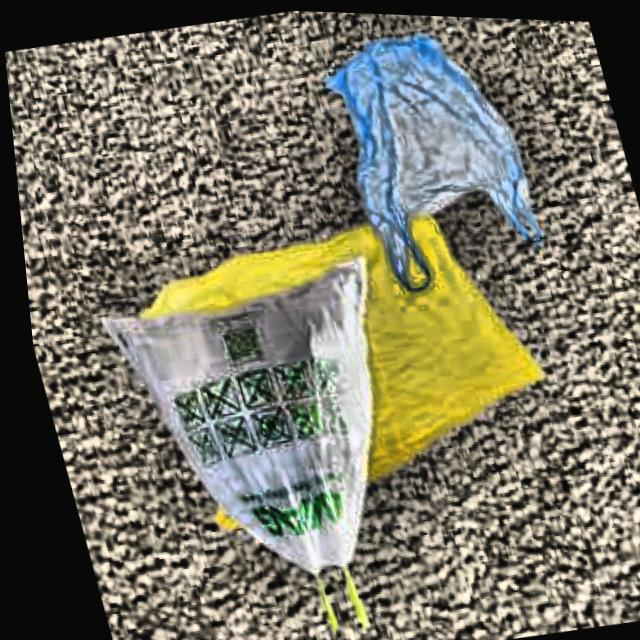Plastic: (95, 177, 577, 538), (79, 249, 426, 640), (293, 9, 580, 325)
